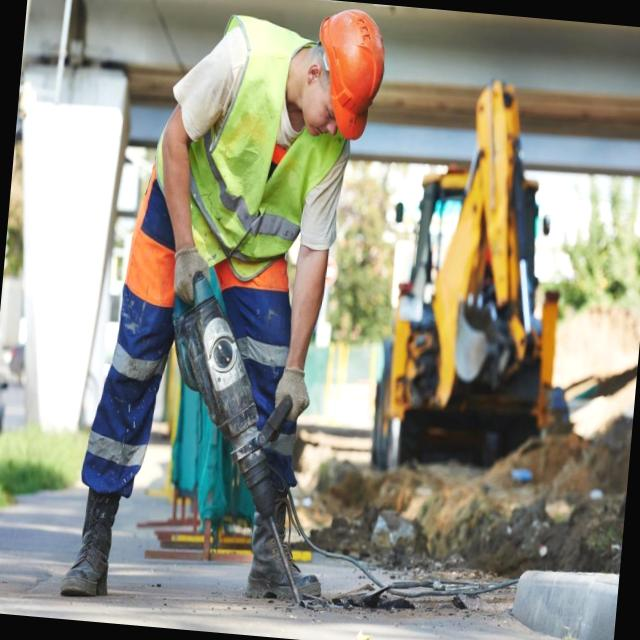helmet: (307, 6, 388, 140)
vest: (196, 40, 350, 328)
